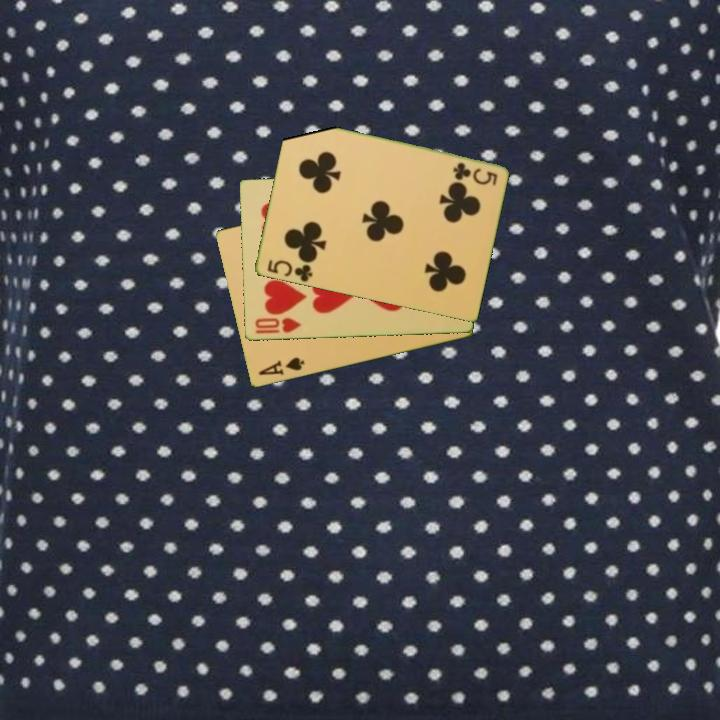10h: (251, 314, 304, 337)
5c: (449, 159, 500, 189), (263, 256, 315, 285)
As: (255, 354, 307, 379)
